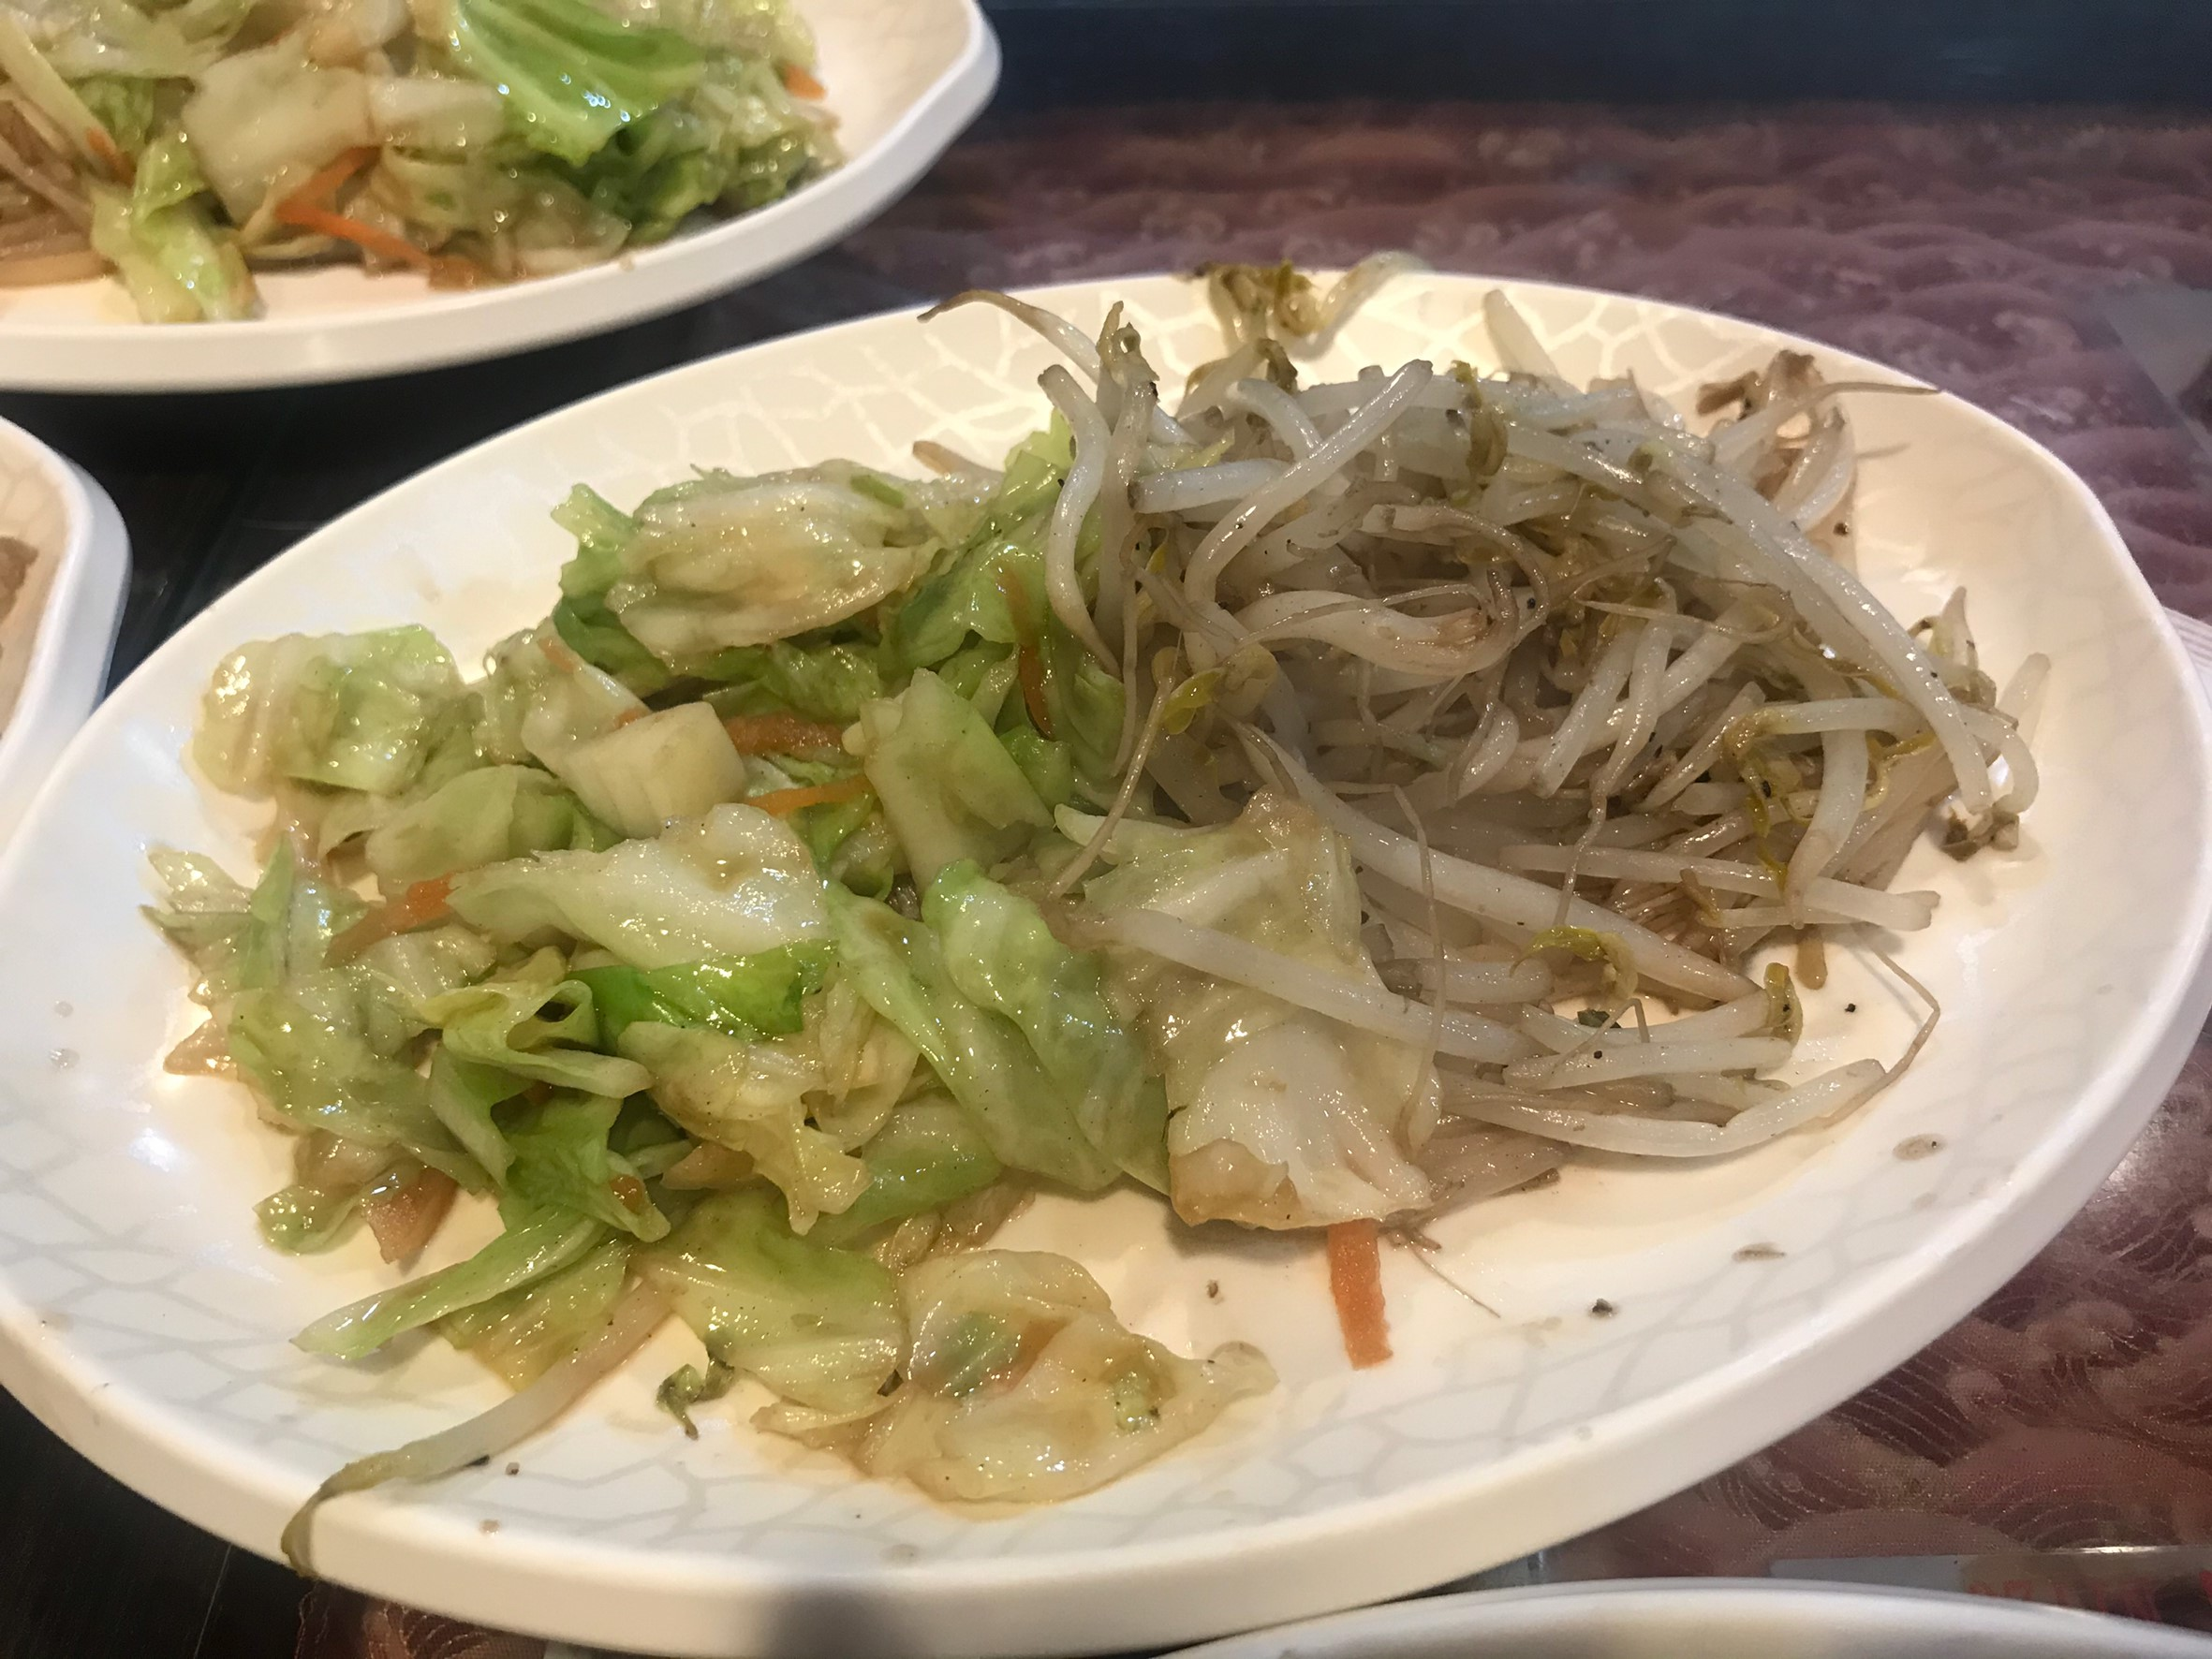chinese_cabbage: (256, 406, 1065, 1452), (2, 2, 844, 301)
mung_bean_sprouts: (1062, 347, 1947, 1138)
